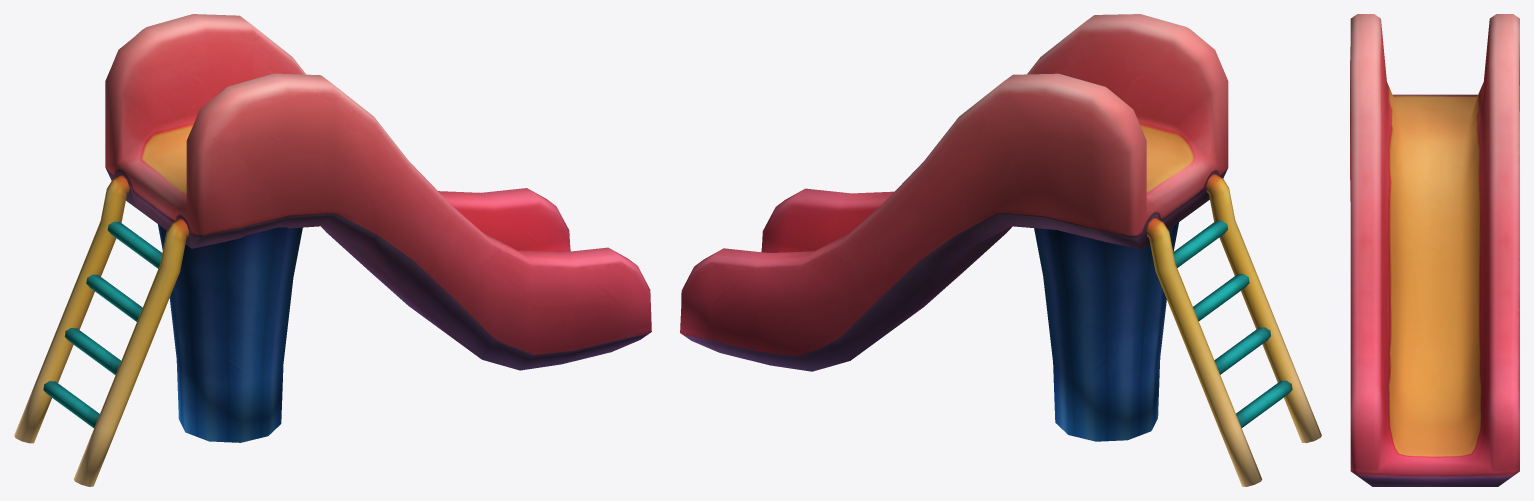
Rendered from SE_Slide_01.fbx.
3 renders of one model, left to right at view 1: azimuth 30°, elevation 25°; view 2: azimuth 150°, elevation 25°; view 3: azimuth 270°, elevation 25°, orthographic. The views are drawn at different scales.
Visible parts, largest first — view 1: SE_Slide_01; view 2: SE_Slide_01; view 3: SE_Slide_01.
Part boxes in pixels (left/top/right/bottom): SE_Slide_01: left=14, top=14, right=651, bottom=486; SE_Slide_01: left=680, top=14, right=1321, bottom=486; SE_Slide_01: left=1350, top=14, right=1519, bottom=486.
Bounding box in the file's own units: 11.38 × 7.19 × 3.49.
